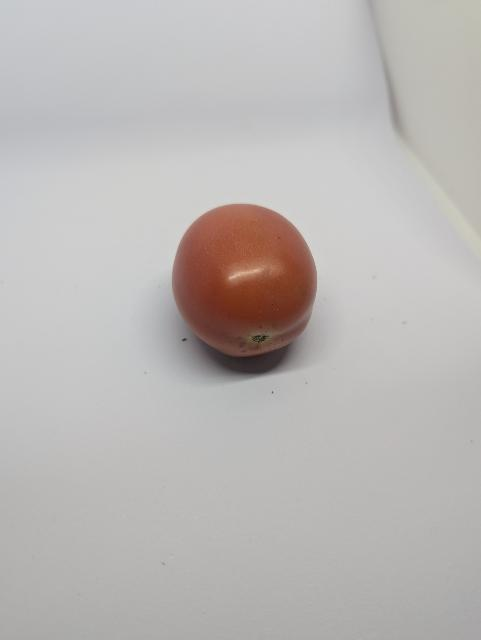red: (169, 197, 328, 377)
